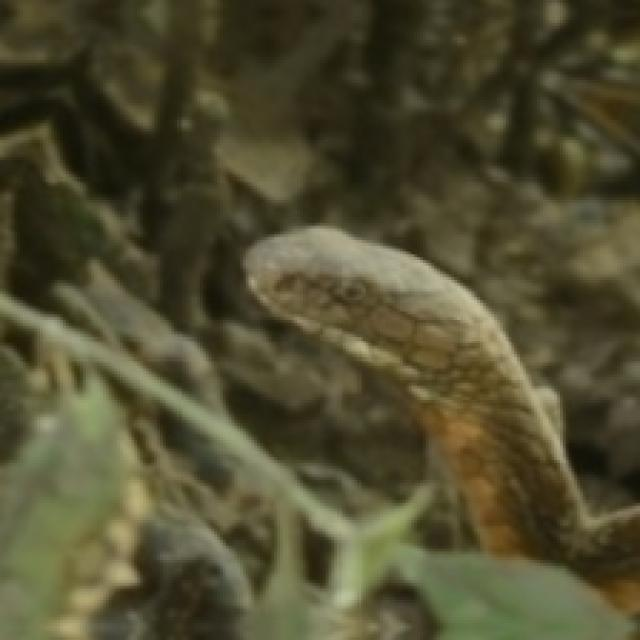king cobra: (246, 226, 637, 611)
